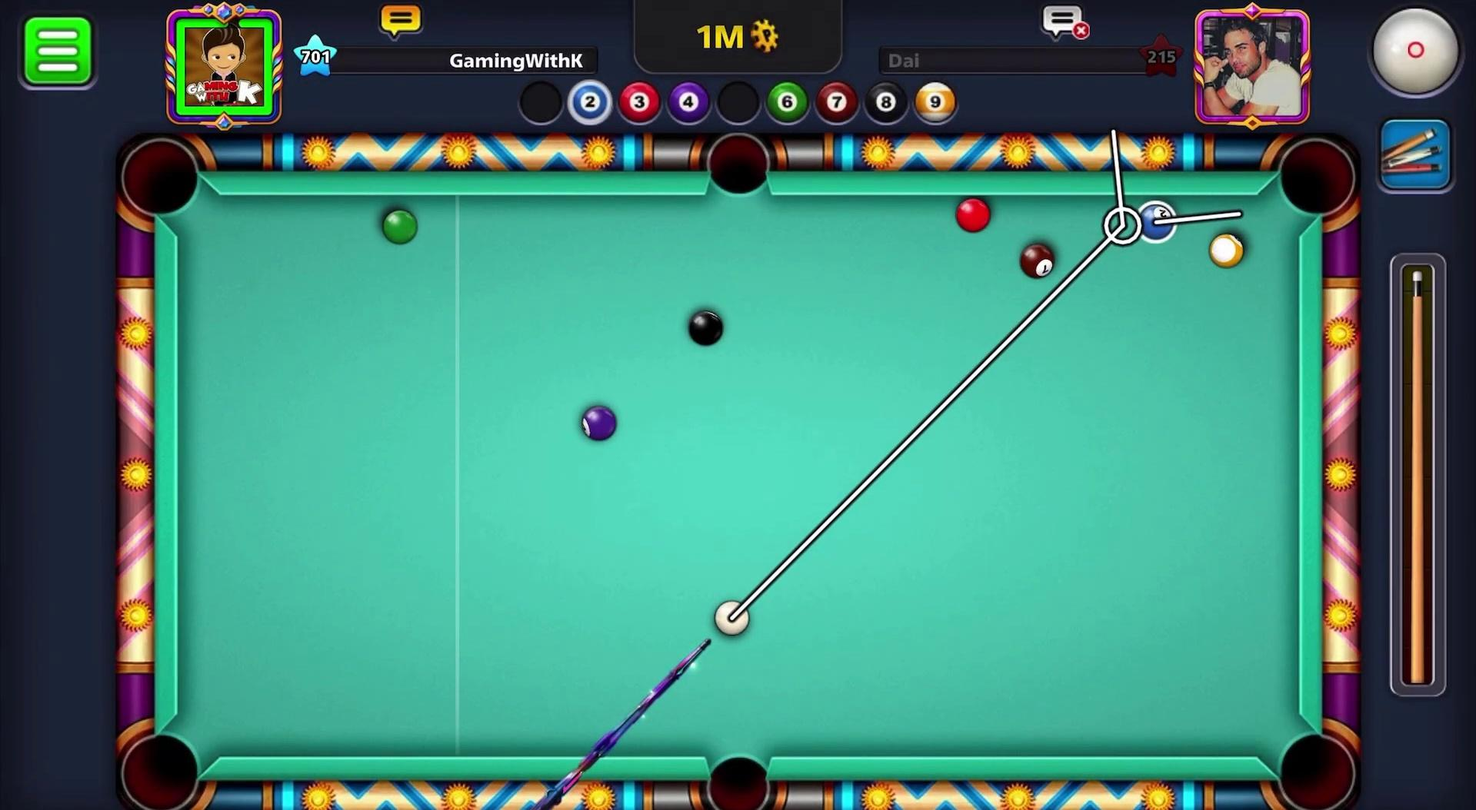Ball: (568, 397, 628, 448), (1133, 194, 1186, 247), (679, 304, 731, 350), (1015, 237, 1061, 284), (948, 193, 997, 236), (1202, 231, 1249, 274), (376, 206, 419, 247)
Force: (1384, 253, 1453, 700)
Guideline: (721, 123, 1252, 628)
Hole: (1263, 127, 1366, 234), (111, 129, 208, 227), (110, 717, 213, 809), (1266, 719, 1364, 809), (693, 123, 788, 207), (685, 739, 788, 809)
Play_Area: (178, 191, 1291, 755)
Spin: (1342, 0, 1475, 112)
White: (697, 593, 755, 644)
